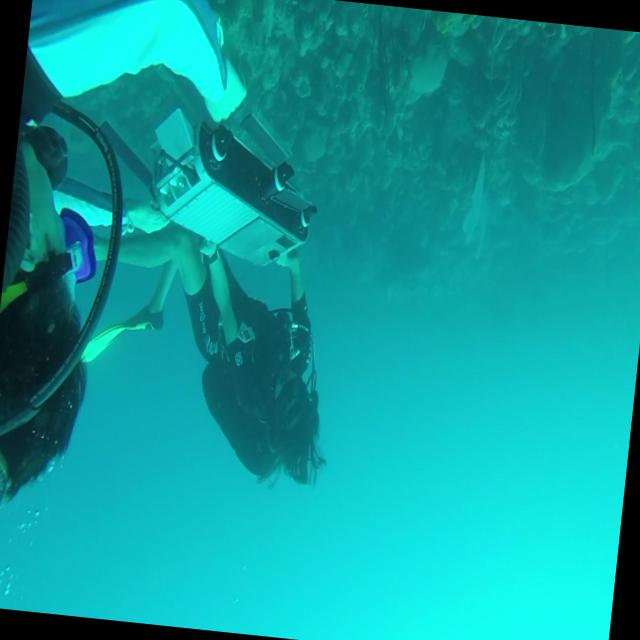human: (0, 0, 239, 556), (56, 207, 350, 496)
